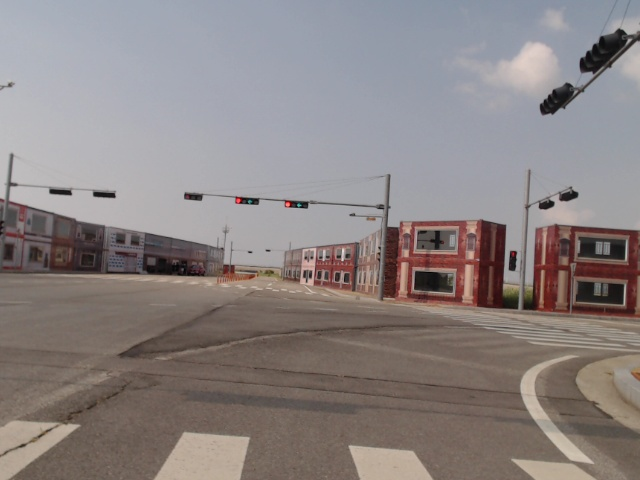left_green_4: (285, 201, 309, 209), (235, 198, 258, 205)
